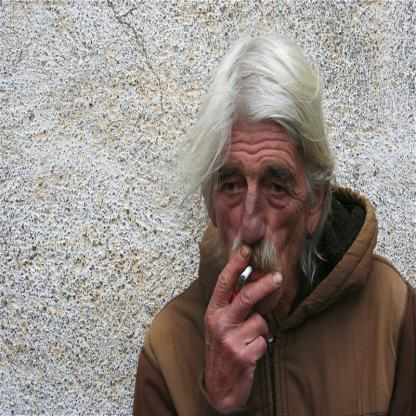smoking: (240, 262, 256, 283)
